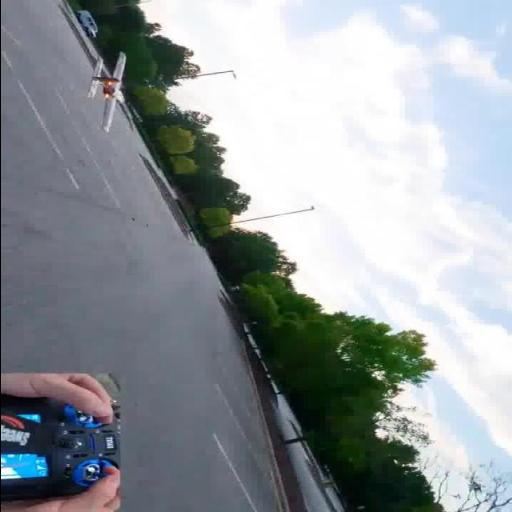uav: (82, 47, 138, 135)
